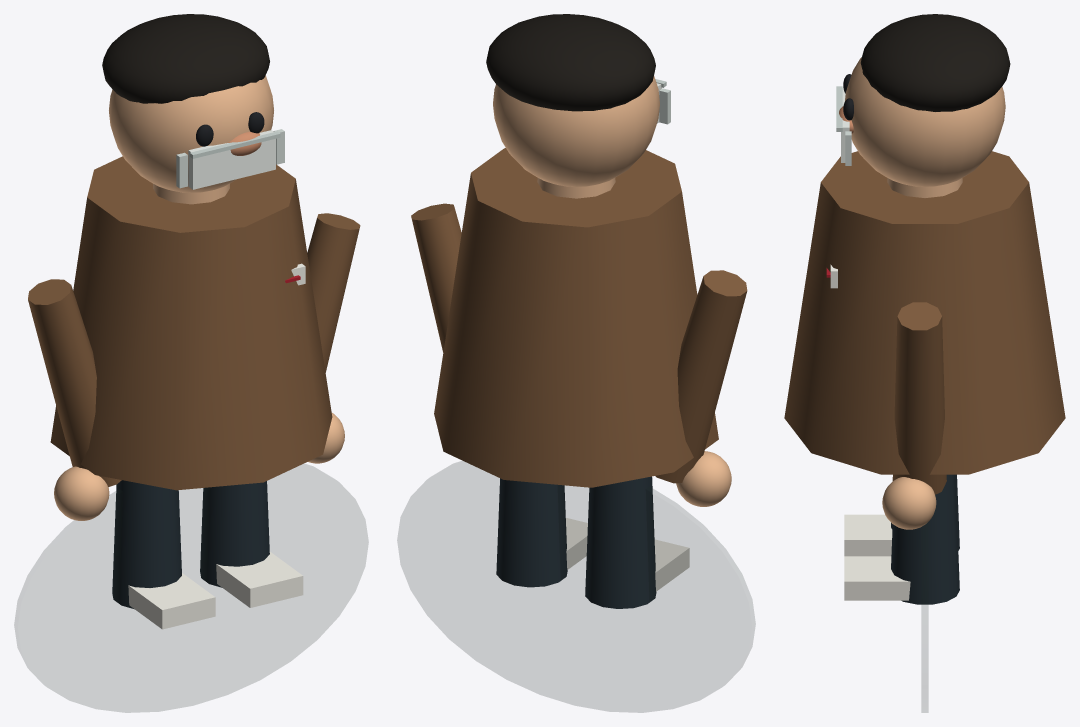
The model's file is staff_10_manager.glb.
The picture shows the model from 3 angles, left to right: view 1: azimuth 30°, elevation 25°; view 2: azimuth 150°, elevation 25°; view 3: azimuth 270°, elevation 25°; orthographic projection. The views are drawn at different scales.
Visible parts, largest first — view 1: torso, contact_shadow, hair_cap, head, arm_-0.255, leg_-0.095, leg_0.095, arm_0.255, shoe_0.095, shoe_-0.095, medical_mask, hand_-0.255 (+3 smaller); view 2: torso, contact_shadow, hair_cap, head, leg_-0.095, arm_-0.255, leg_0.095, arm_0.255, hand_-0.255, shoe_-0.095, shoe_0.095, neck; view 3: torso, hair_cap, head, arm_0.255, leg_0.095, shoe_0.095, hand_0.255, shoe_-0.095, contact_shadow, neck.
Part boxes in pixels (box(x1,y1,x2,y2)): torso: box(50, 156, 332, 490); contact_shadow: box(14, 464, 368, 712); hair_cap: box(102, 14, 269, 103); head: box(109, 75, 273, 192); arm_-0.255: box(28, 279, 121, 487); leg_-0.095: box(112, 480, 181, 609); leg_0.095: box(200, 481, 269, 587); arm_0.255: box(307, 213, 360, 372); shoe_0.095: box(216, 551, 303, 607); shoe_-0.095: box(128, 573, 215, 629); medical_mask: box(188, 130, 275, 189); hand_-0.255: box(54, 466, 109, 520); torso: box(434, 148, 718, 487); contact_shadow: box(397, 461, 755, 712); hair_cap: box(486, 14, 655, 111); head: box(493, 76, 659, 186); leg_-0.095: box(585, 476, 656, 608); arm_-0.255: box(655, 270, 747, 483); leg_0.095: box(496, 478, 567, 587); arm_0.255: box(411, 203, 461, 352); hand_-0.255: box(676, 451, 731, 506); shoe_-0.095: box(654, 539, 689, 591); shoe_0.095: box(566, 518, 587, 569); neck: box(537, 178, 615, 198); torso: box(784, 151, 1065, 474); hair_cap: box(860, 14, 1010, 111); head: box(845, 57, 1005, 186); arm_0.255: box(892, 302, 946, 494); leg_0.095: box(891, 474, 959, 604); shoe_0.095: box(844, 556, 910, 600); hand_0.255: box(882, 477, 936, 529); shoe_-0.095: box(844, 514, 892, 556); contact_shadow: box(922, 523, 927, 712); neck: box(887, 178, 962, 197).
Bounding box in the file's own units: 0.7828 × 1.43 × 0.5562.
